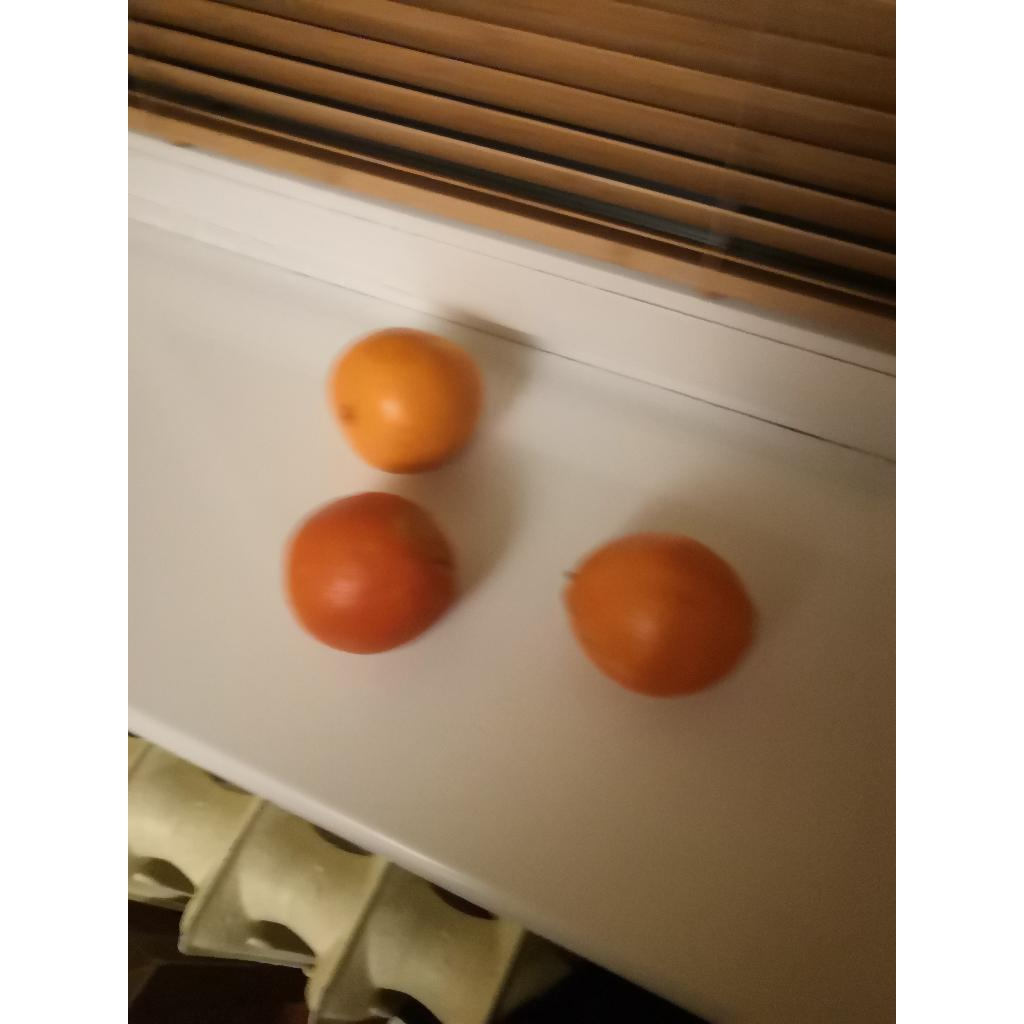orange: (564, 532, 754, 696), (286, 492, 454, 654), (328, 328, 482, 474)
